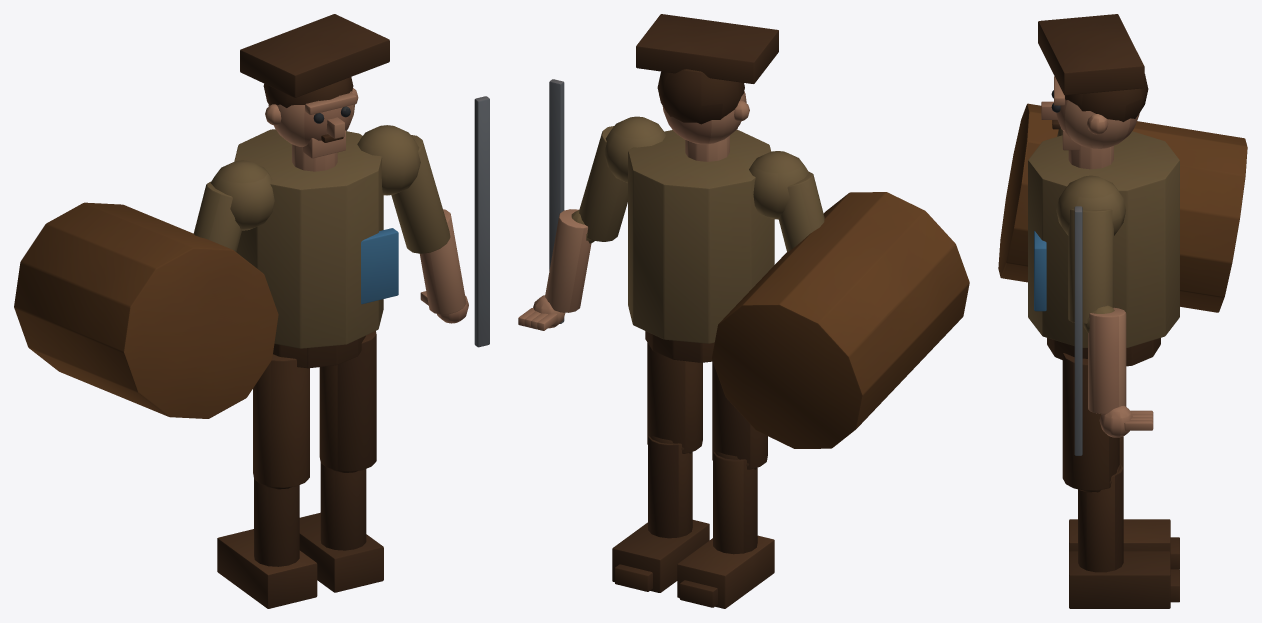
The model's file is unit_freetown_cannon_fodder.fbx.
3 views of the same model, side by side, from view 1: azimuth 30°, elevation 25°; view 2: azimuth 150°, elevation 25°; view 3: azimuth 270°, elevation 25° (orthographic). The views are drawn at different scales.
Parts seen in each view (by area): view 1: unit_freetown_cannon_fodder; view 2: unit_freetown_cannon_fodder; view 3: unit_freetown_cannon_fodder.
Part boxes in pixels (box(x1,y1,x2,y2)): unit_freetown_cannon_fodder: box(14, 14, 489, 608); unit_freetown_cannon_fodder: box(518, 14, 969, 608); unit_freetown_cannon_fodder: box(998, 14, 1247, 608).
Size of the model in its own units: 1.43 by 1.87 by 0.785.
